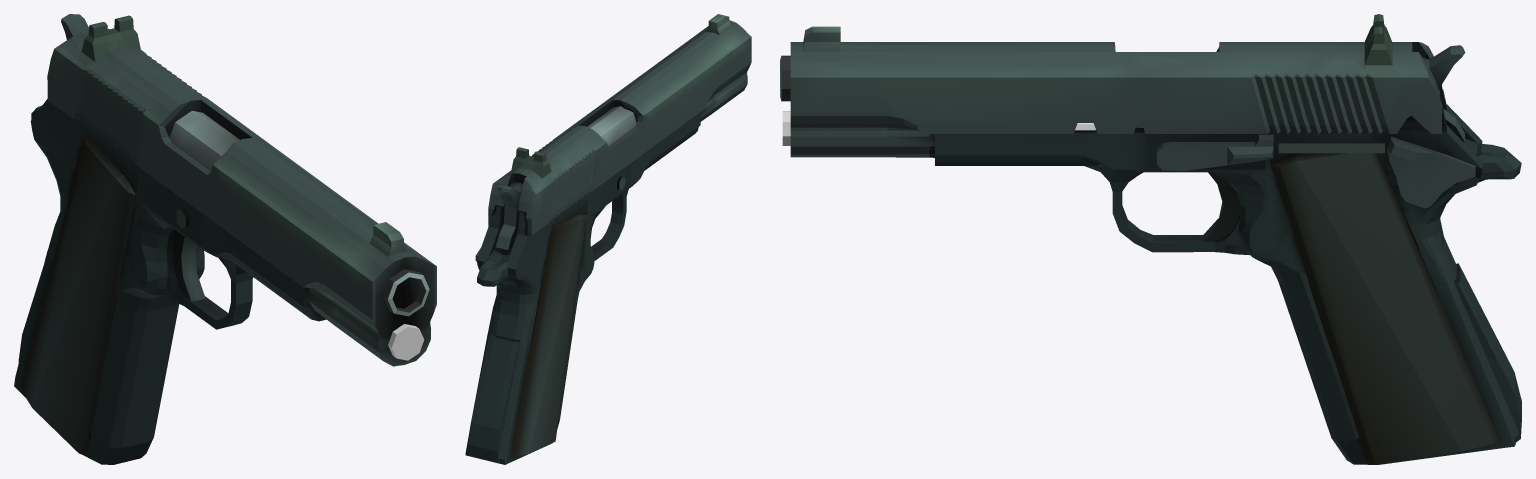
Rendered from colt_1911_a1.FBX.
3 views of the same model, side by side, from view 1: azimuth 30°, elevation 25°; view 2: azimuth 150°, elevation 25°; view 3: azimuth 270°, elevation 25° (orthographic). The views are drawn at different scales.
Parts seen in each view (by area): view 1: slide, reciever, stock, barrel, trigger, recoil spring plug, hammer; view 2: slide, reciever, stock, hammer, barrel; view 3: slide, reciever, stock, safety, slide stop, trigger, plunger tube, hammer.
Part boxes in pixels (left/top/right/bottom): slide: left=47, top=15, right=436, bottom=366; reciever: left=14, top=99, right=326, bottom=464; stock: left=20, top=135, right=135, bottom=455; barrel: left=169, top=110, right=429, bottom=316; trigger: left=173, top=231, right=205, bottom=301; recoil spring plug: left=388, top=324, right=424, bottom=360; hammer: left=61, top=14, right=88, bottom=39; slide: left=488, top=14, right=751, bottom=235; reciever: left=465, top=112, right=700, bottom=464; stock: left=511, top=214, right=586, bottom=456; hammer: left=496, top=182, right=523, bottom=249; barrel: left=587, top=106, right=636, bottom=146; slide: left=790, top=14, right=1441, bottom=157; reciever: left=935, top=85, right=1521, bottom=464; stock: left=1271, top=142, right=1499, bottom=464; safety: left=1387, top=136, right=1475, bottom=208; slide stop: left=1157, top=134, right=1273, bottom=170; trigger: left=1202, top=172, right=1239, bottom=241; plunger tube: left=1278, top=143, right=1384, bottom=153; hammer: left=1422, top=45, right=1465, bottom=141.
Size of the model in its own units: 0.0273 by 0.1279 by 0.2.
